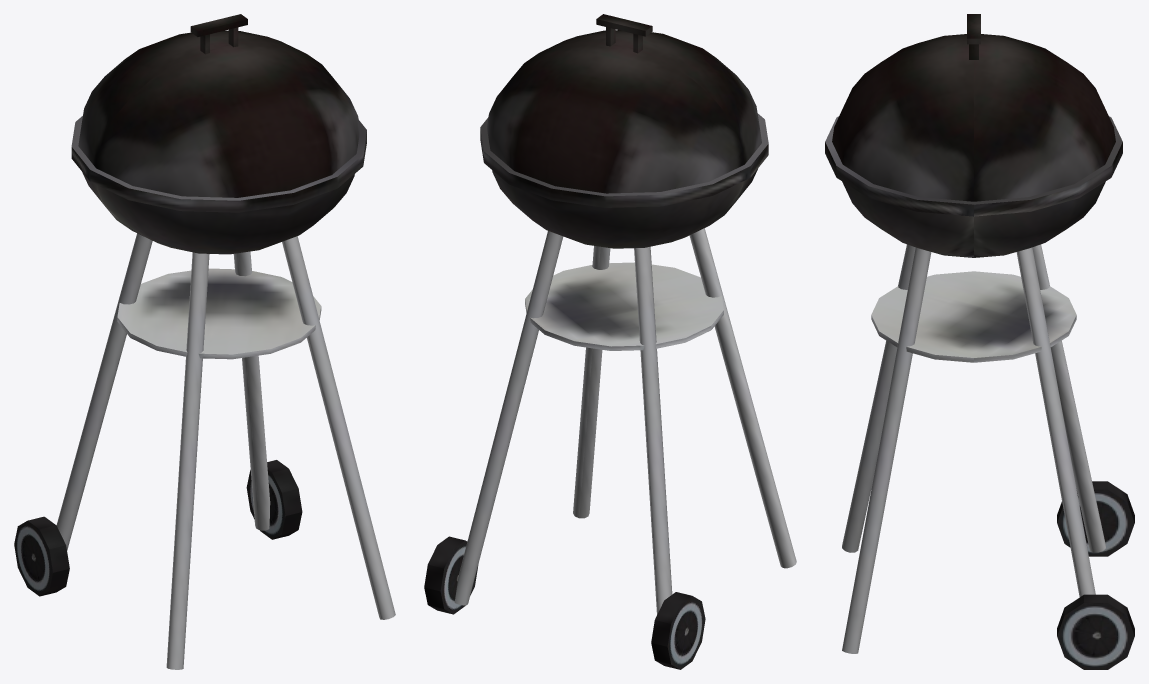
Rendered from geo_BBQ.fbx.
The picture shows the model from 3 angles, left to right: view 1: azimuth 30°, elevation 25°; view 2: azimuth 150°, elevation 25°; view 3: azimuth 270°, elevation 25°; orthographic projection. The views are drawn at different scales.
Parts seen in each view (by area): view 1: geo_BBQ; view 2: geo_BBQ; view 3: geo_BBQ.
Part boxes in pixels (left/top/right/bottom): geo_BBQ: left=14, top=14, right=395, bottom=669; geo_BBQ: left=424, top=14, right=796, bottom=669; geo_BBQ: left=825, top=14, right=1134, bottom=669.
Size of the model in its own units: 55.19 by 119 by 57.4.
Materials: 1 (1 with a texture image).
